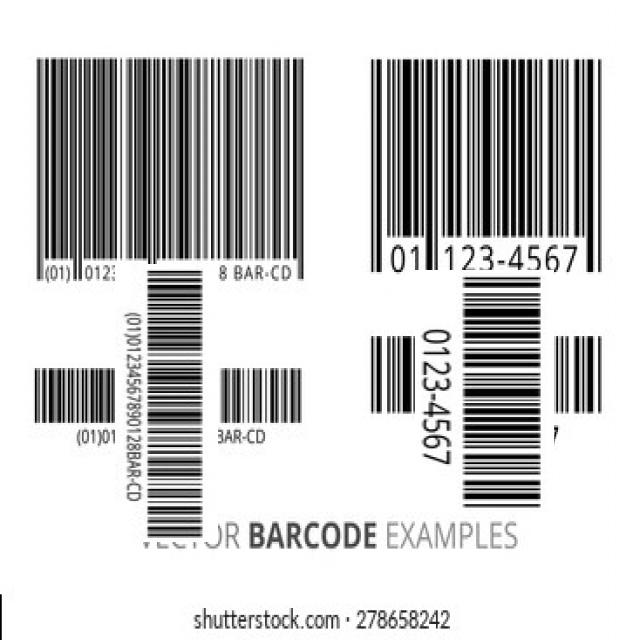Barkod: (30, 46, 310, 292), (363, 47, 613, 283), (71, 308, 262, 498), (390, 296, 580, 486)
